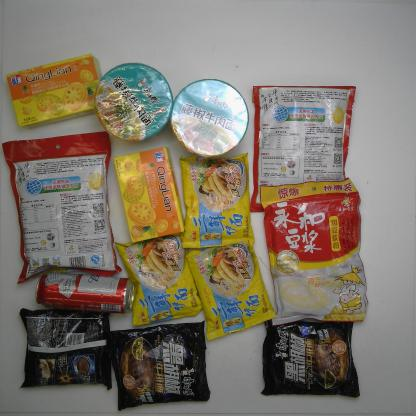Alcohol: (34, 264, 130, 314)
Dessert: (5, 55, 108, 130), (113, 146, 185, 244)
Instant Drink: (1, 133, 122, 286), (259, 179, 369, 327), (250, 82, 357, 215)
Instant Noodles: (185, 240, 275, 342), (111, 322, 212, 410), (261, 312, 361, 398), (15, 308, 114, 389), (117, 233, 202, 325), (177, 153, 257, 247), (173, 78, 250, 156), (97, 63, 172, 140)
